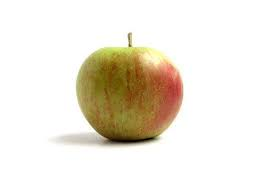apple: (74, 31, 184, 142)
